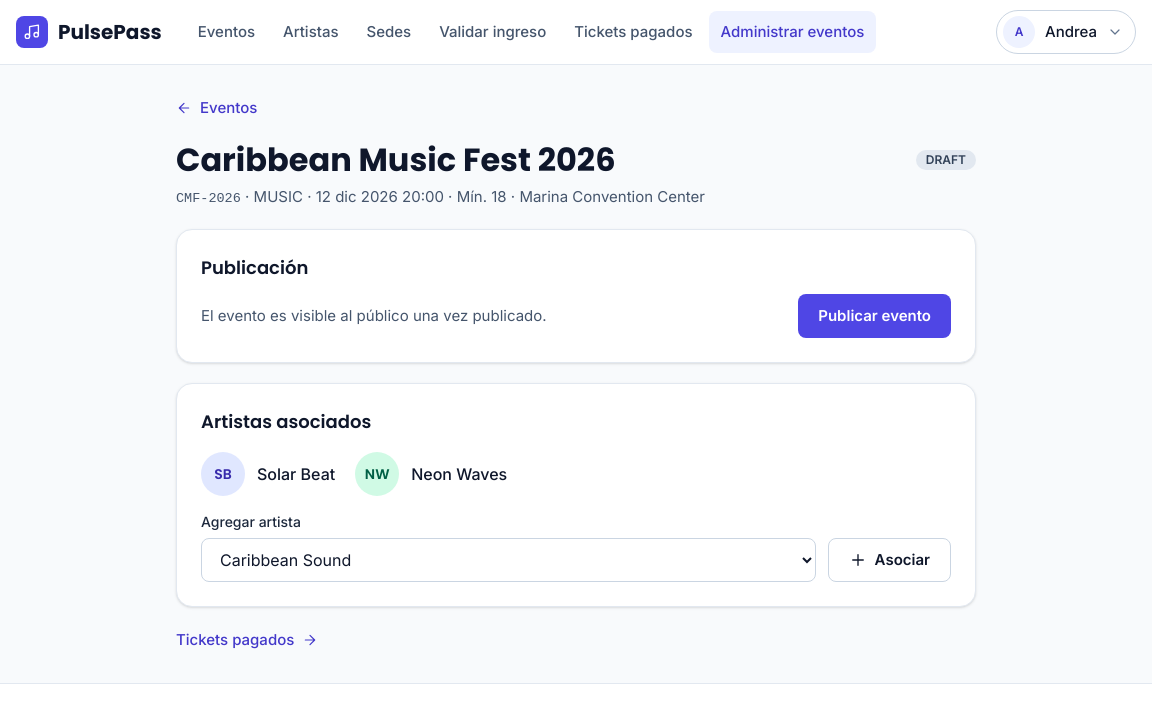
Scenario: Administración de eventos (ADMIN) › TEST-FE-ADM-005: publicar un DRAFT pide confirmación y cambia el badge
Click the button "Publicar evento": (875,316) [798,294,951,338]
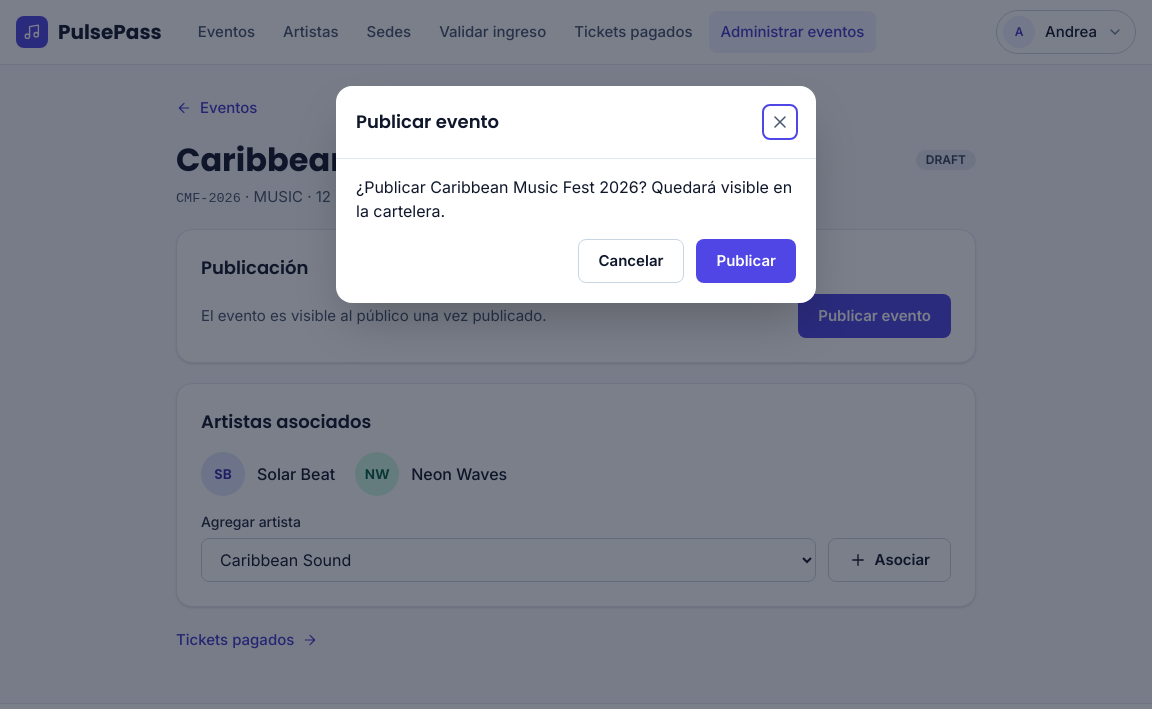
Click the button "Publicar": (746,261) [696,239,796,283]
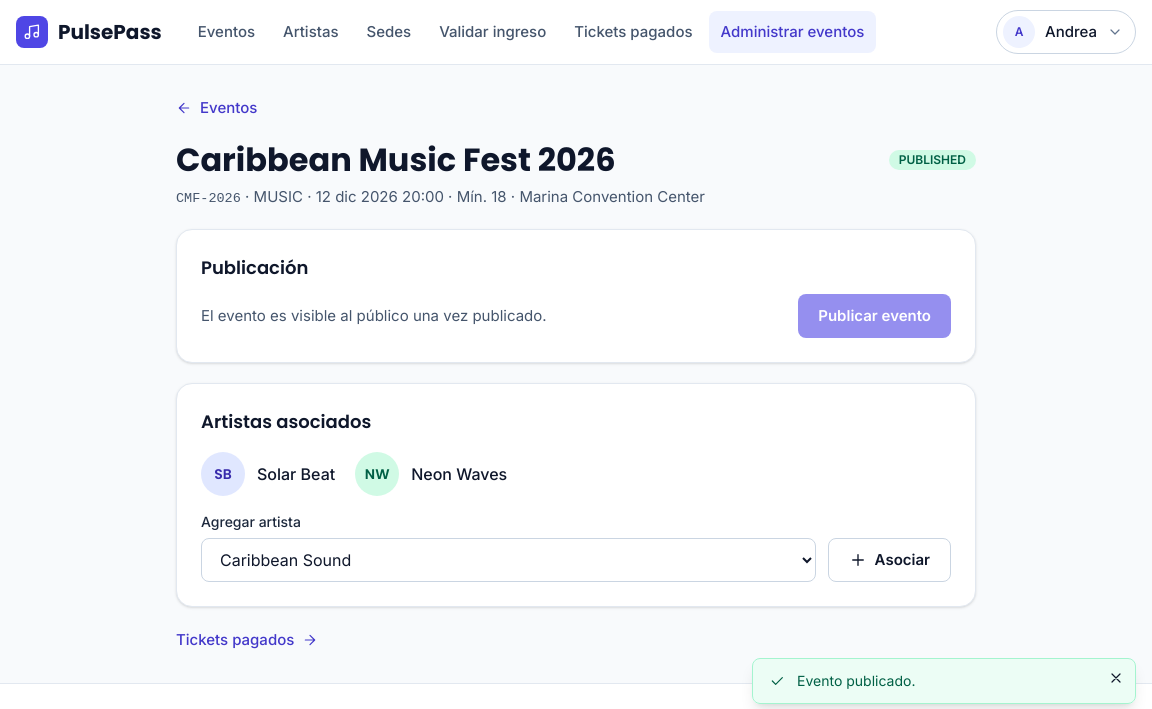
Check: the text "Evento publicado." is shown, box [797,671,915,691]
Check: the button "Publicar evento" is disabled, box [798,294,951,338]
